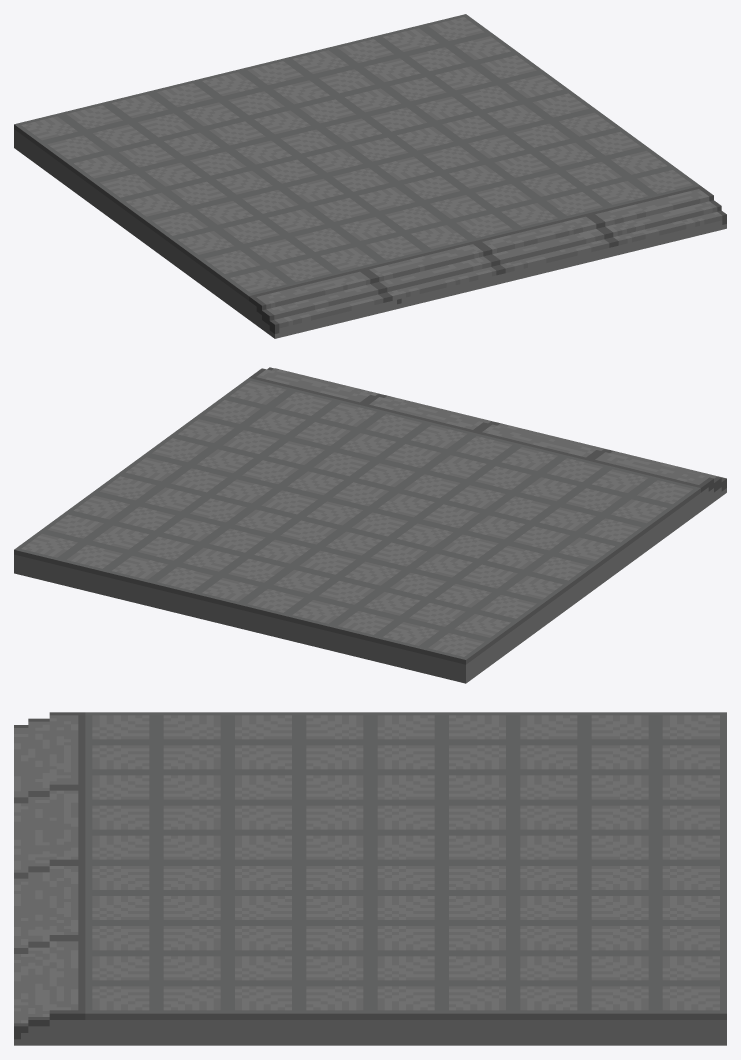
File: TILES-3-sidewalk-a1.obj
The picture shows the model from 3 angles, top to bottom: view 1: azimuth 30°, elevation 25°; view 2: azimuth 150°, elevation 25°; view 3: azimuth 270°, elevation 25°; orthographic projection. The views are drawn at different scales.
Parts seen in each view (by area): view 1: sidewalk-a1; view 2: sidewalk-a1; view 3: sidewalk-a1.
Boxes of the visible parts, box(x1,y1,x2,y2) form: sidewalk-a1: box(14, 14, 726, 338); sidewalk-a1: box(14, 367, 726, 683); sidewalk-a1: box(14, 712, 726, 1045).
Bounding box in the file's own units: 10 × 0.5 × 10.
Materials: 1 (1 with a texture image).
